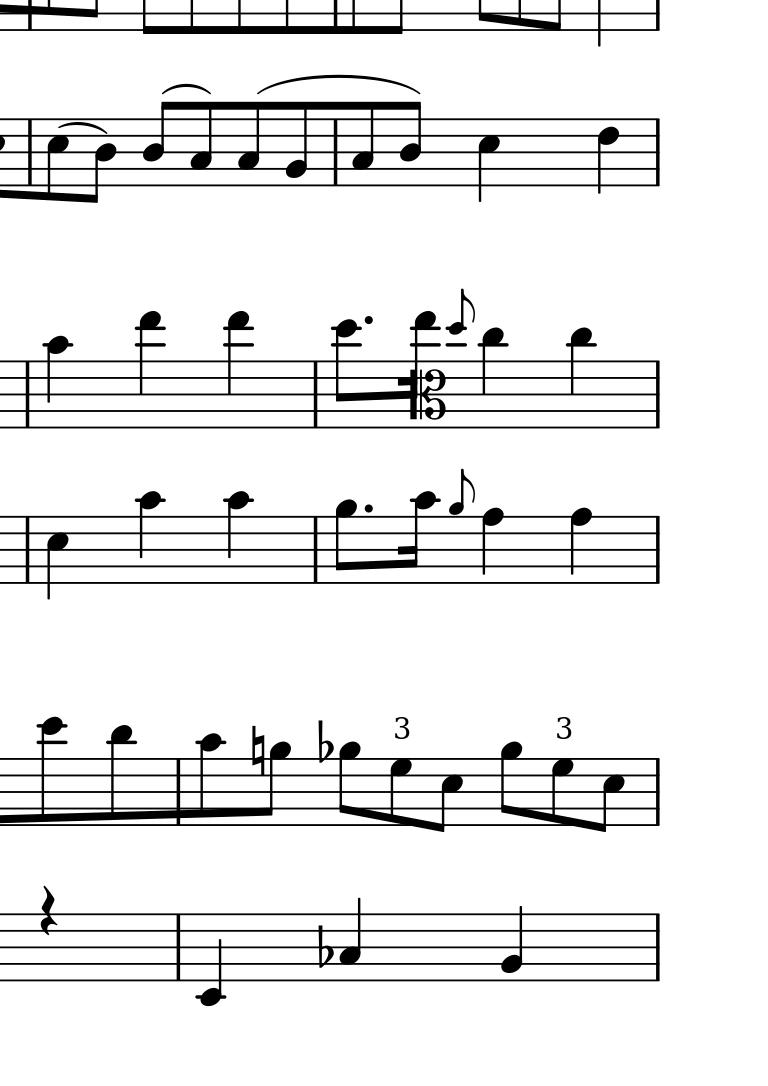16_10: (401, 489, 436, 587)
3: (392, 715, 411, 740), (554, 715, 572, 739)
4_-2: (197, 910, 227, 1008)
4_10: (222, 490, 251, 587), (136, 488, 164, 588), (44, 333, 70, 433)
4_11: (568, 325, 596, 433), (480, 326, 507, 429)
4_13: (226, 311, 253, 432), (138, 311, 164, 432)
4_2: (499, 905, 526, 984)
4_3: (338, 896, 366, 984)
4_5: (43, 512, 71, 604), (476, 116, 503, 205)
4_6: (595, 115, 620, 197)
4_8: (479, 506, 507, 586), (566, 508, 594, 586)
8_10: (197, 733, 222, 828)
8_11: (108, 724, 135, 827)
8_12: (333, 319, 361, 430), (38, 717, 65, 827)
8_2: (283, 100, 313, 189)
8_3: (349, 99, 378, 190), (236, 100, 264, 189), (189, 101, 216, 189)
8_4: (86, 117, 117, 205), (143, 100, 174, 186), (399, 100, 426, 188)
8_5: (597, 757, 627, 834), (435, 756, 464, 834), (44, 116, 70, 203)
8_7: (549, 757, 577, 830), (387, 756, 413, 827)
8_9: (261, 740, 293, 829), (333, 498, 360, 586), (499, 740, 525, 828), (338, 738, 363, 828)
Appoggiature: (447, 289, 476, 428), (447, 467, 475, 584)
Flat: (314, 719, 333, 765), (317, 925, 334, 972)
Natural: (250, 724, 266, 773)
Rests4: (38, 883, 61, 937)
Single_barline: (326, 119, 348, 185), (647, 117, 668, 186), (18, 360, 39, 428), (647, 360, 668, 427), (308, 360, 328, 428), (22, 120, 42, 185)
Slur: (258, 74, 423, 93), (58, 120, 111, 134), (160, 84, 212, 95)
dot: (639, 759, 671, 827), (645, 914, 670, 981), (168, 914, 193, 980), (17, 515, 40, 583), (644, 516, 667, 583), (306, 515, 327, 582), (171, 758, 189, 826), (362, 499, 376, 517), (361, 313, 375, 326)
